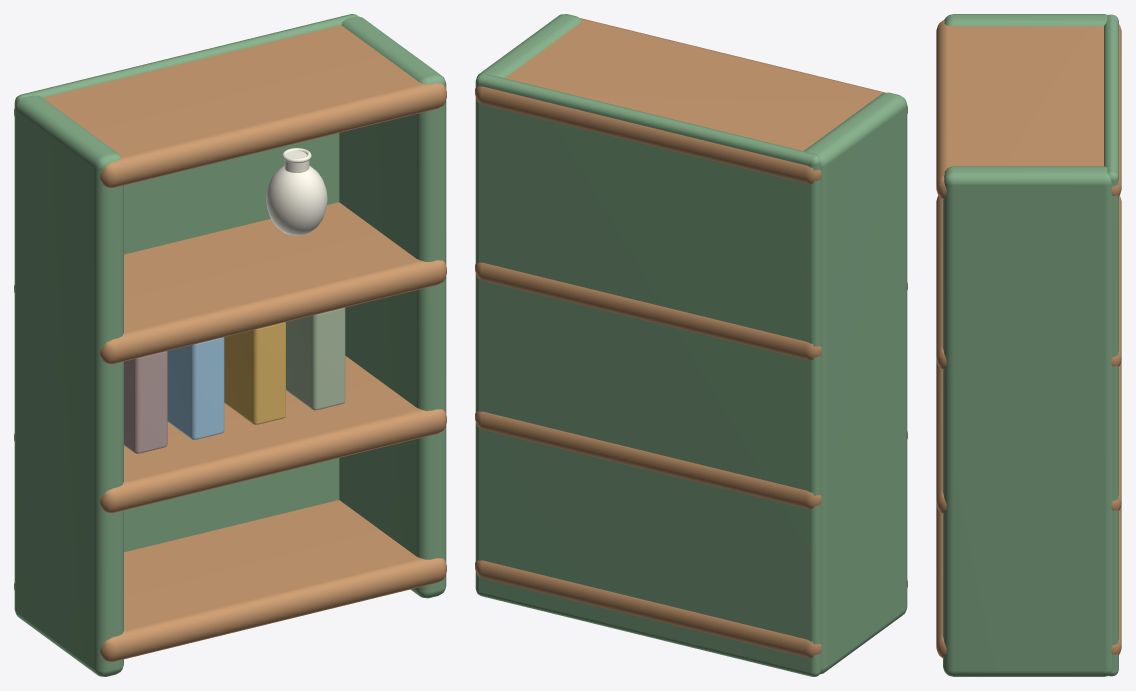
Rendered from shelfGreen.glb.
3 renders of one model, left to right at view 1: azimuth 30°, elevation 25°; view 2: azimuth 150°, elevation 25°; view 3: azimuth 270°, elevation 25°, orthographic. The views are drawn at different scales.
Visible parts, largest first — view 1: Shelf side, Shelf side.001, Shelf.003, Shelf, Shelf.002, Shelf back, Shelf.001, Book.002, Book.003, Book.001, Book, Vase belly; view 2: Shelf back, Shelf side, Shelf.003, Shelf, Shelf.001, Shelf.002, Shelf side.001; view 3: Shelf side.001, Shelf.003, Shelf back, Shelf side, Shelf.002, Shelf.001, Shelf.
Boxes of the visible parts, x1,y1,x2,y2 form: Shelf side: (14,95,123,676); Shelf side.001: (339,16,446,598); Shelf.003: (14,25,446,187); Shelf: (14,500,446,661); Shelf.002: (14,202,446,364); Shelf back: (14,14,358,552); Shelf.001: (14,356,446,513); Book.002: (224,322,285,424); Book.003: (286,307,345,410); Book.001: (167,337,224,439); Book: (124,351,167,453); Vase belly: (266,165,327,235); Shelf back: (475,73,820,676); Shelf side: (804,92,907,674); Shelf.003: (475,18,907,183); Shelf: (475,560,907,657); Shelf.001: (475,411,907,508); Shelf.002: (475,262,907,359); Shelf side.001: (476,14,581,78); Shelf side.001: (943,166,1112,676); Shelf.003: (936,20,1121,199); Shelf back: (1104,14,1118,676); Shelf side: (944,14,1107,26); Shelf.002: (936,195,1121,369); Shelf.001: (936,361,1121,514); Shelf: (936,505,1121,658).
Size of the model in its own units: 1.48 by 2.1 by 0.7.
